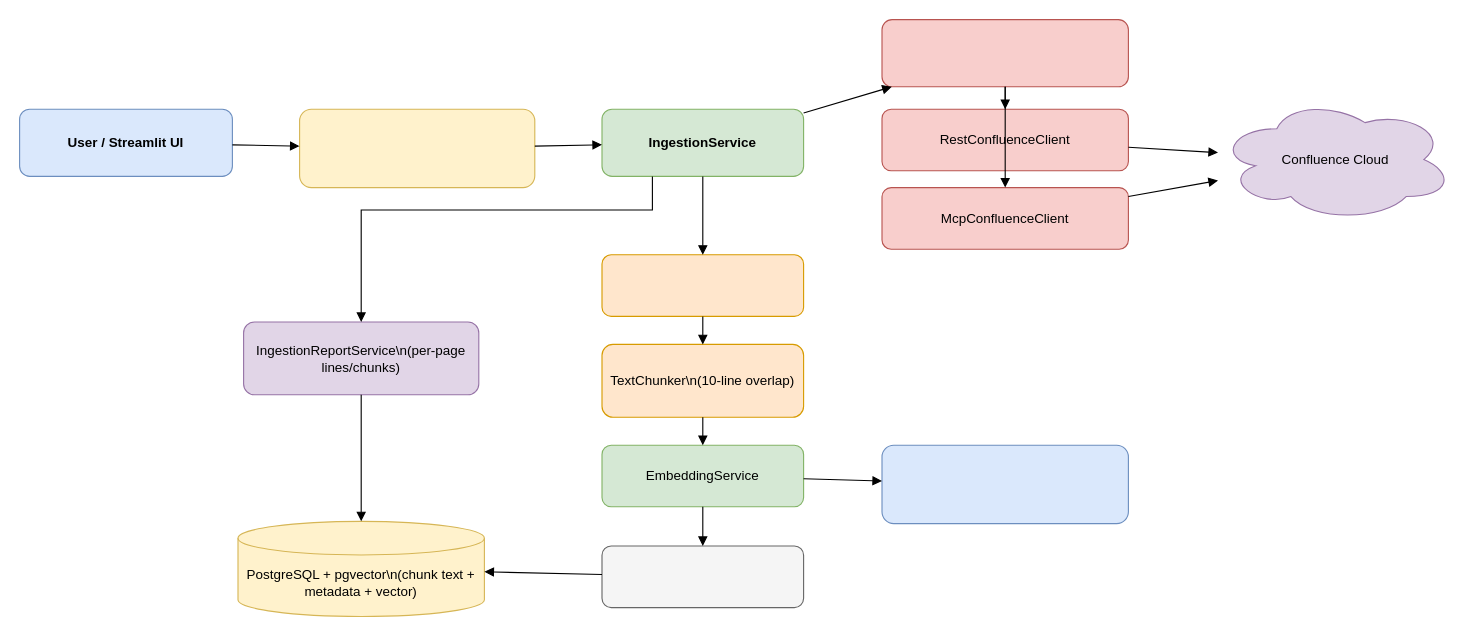
The diagram is 1473 pixels wide and 636 high, and some of its shapes have lost their labels. The shapes that lost their labels are listed below. From the top down, each one's centre as x and y in pixels, then its label:
At (x=1004, y=52): "ConfluenceClientFactory".
At (x=416, y=148): "Ingestion API\nPOST /api/v1/ingestion".
At (x=702, y=285): "HtmlTextExtractor".
At (x=1004, y=484): "Ollama\nnomic-embed-text:latest".
At (x=702, y=576): "ChatbotRepository".
